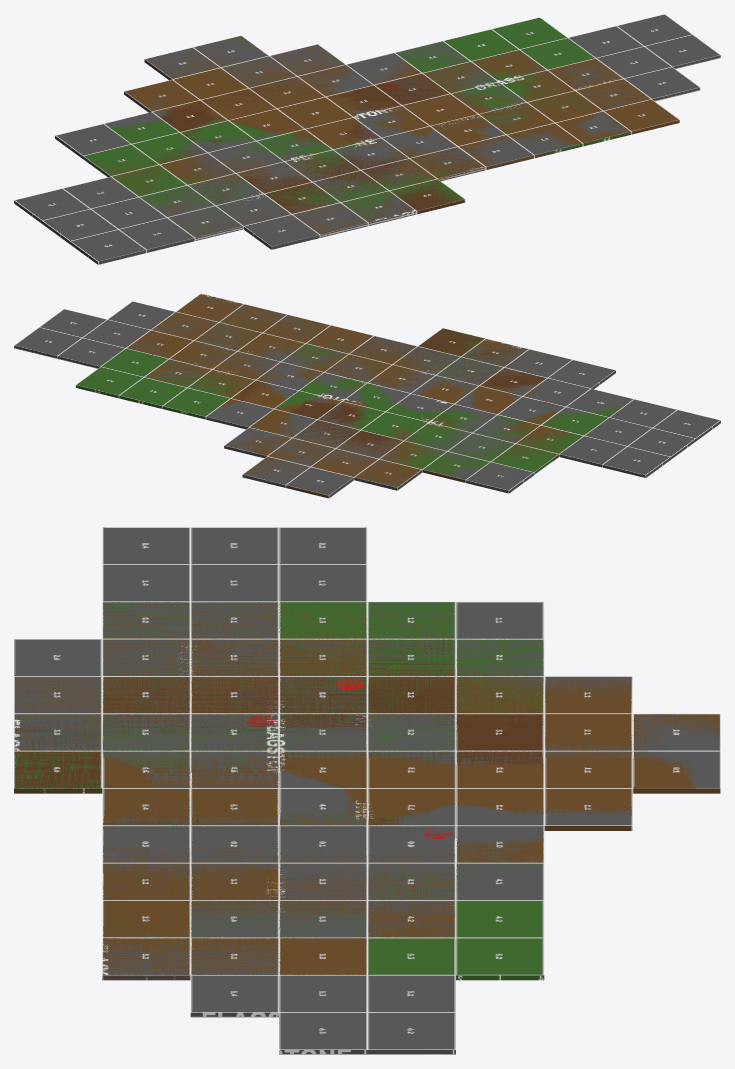
Rendered from floors.glb.
3 renders of one model, top to bottom at view 1: azimuth 30°, elevation 25°; view 2: azimuth 150°, elevation 25°; view 3: azimuth 270°, elevation 25°, orthographic. The views are drawn at different scales.
Parts seen in each view (by area): view 1: 14b, 18a, 3b, 16b, 15a, 20b, 7a, 9a, 6b, 8b, 6a, 18b (+14 smaller); view 2: 18a, 16b, 3b, 14b, 15a, 20b, 6b, 9a, 18b, 4a, 7a, 8b (+14 smaller); view 3: 18b, 18a, 4a, 3b, 15a, 8b, 7a, 9a, 6a, 16b, 3a, 6b (+13 smaller).
Part boxes in pixels (left/top/right/bottom): 14b: left=124, top=45, right=574, bottom=186; 18a: left=104, top=35, right=526, bottom=212; 3b: left=430, top=58, right=679, bottom=169; 16b: left=110, top=110, right=464, bottom=237; 15a: left=14, top=174, right=287, bottom=264; 20b: left=395, top=17, right=630, bottom=156; 7a: left=145, top=147, right=416, bottom=240; 9a: left=453, top=14, right=720, bottom=111; 6b: left=402, top=49, right=628, bottom=153; 8b: left=150, top=139, right=485, bottom=240; 6a: left=211, top=105, right=455, bottom=211; 18b: left=89, top=36, right=485, bottom=213; 18a: left=192, top=344, right=545, bottom=498; 16b: left=276, top=328, right=623, bottom=478; 3b: left=126, top=293, right=373, bottom=368; 14b: left=164, top=339, right=446, bottom=486; 15a: left=537, top=378, right=720, bottom=477; 20b: left=75, top=304, right=326, bottom=419; 6b: left=135, top=294, right=341, bottom=398; 9a: left=14, top=301, right=261, bottom=378; 18b: left=216, top=349, right=580, bottom=498; 4a: left=151, top=293, right=358, bottom=398; 7a: left=431, top=339, right=633, bottom=420; 8b: left=325, top=337, right=631, bottom=442; 18b: left=102, top=601, right=720, bottom=863; 18a: left=102, top=639, right=720, bottom=862; 4a: left=102, top=826, right=455, bottom=980; 3b: left=102, top=827, right=367, bottom=980; 15a: left=102, top=527, right=367, bottom=676; 8b: left=14, top=601, right=367, bottom=825; 7a: left=14, top=601, right=367, bottom=750; 9a: left=190, top=866, right=455, bottom=1054; 6a: left=102, top=676, right=455, bottom=825; 16b: left=14, top=601, right=544, bottom=855; 3a: left=102, top=676, right=367, bottom=825; 6b: left=102, top=861, right=455, bottom=980.
Size of the model in its own units: 44.8 by 0.2 by 25.6.
4 materials, 4 textured.
